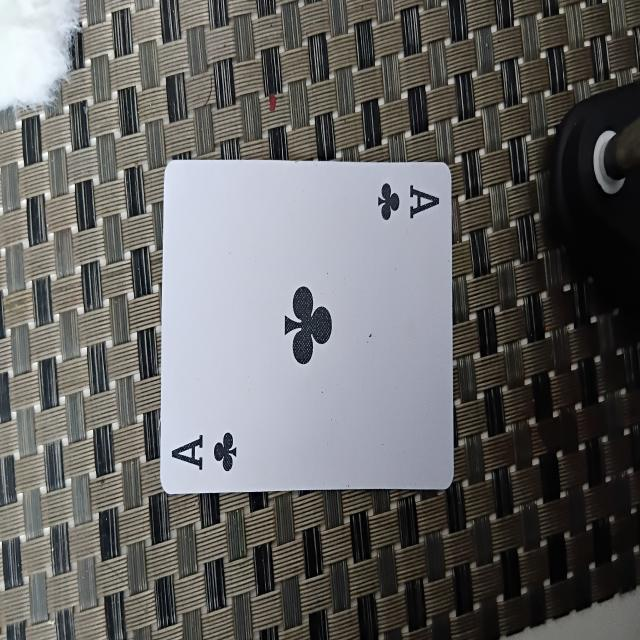AC: (159, 159, 455, 495)
